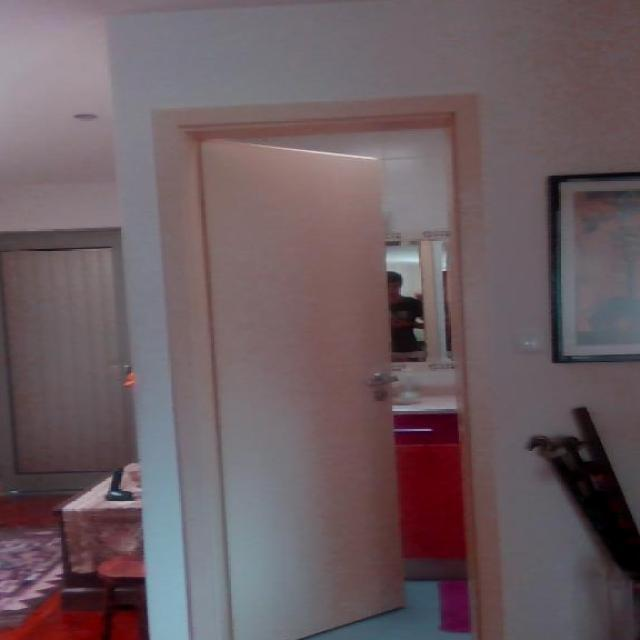door: (196, 137, 407, 638)
